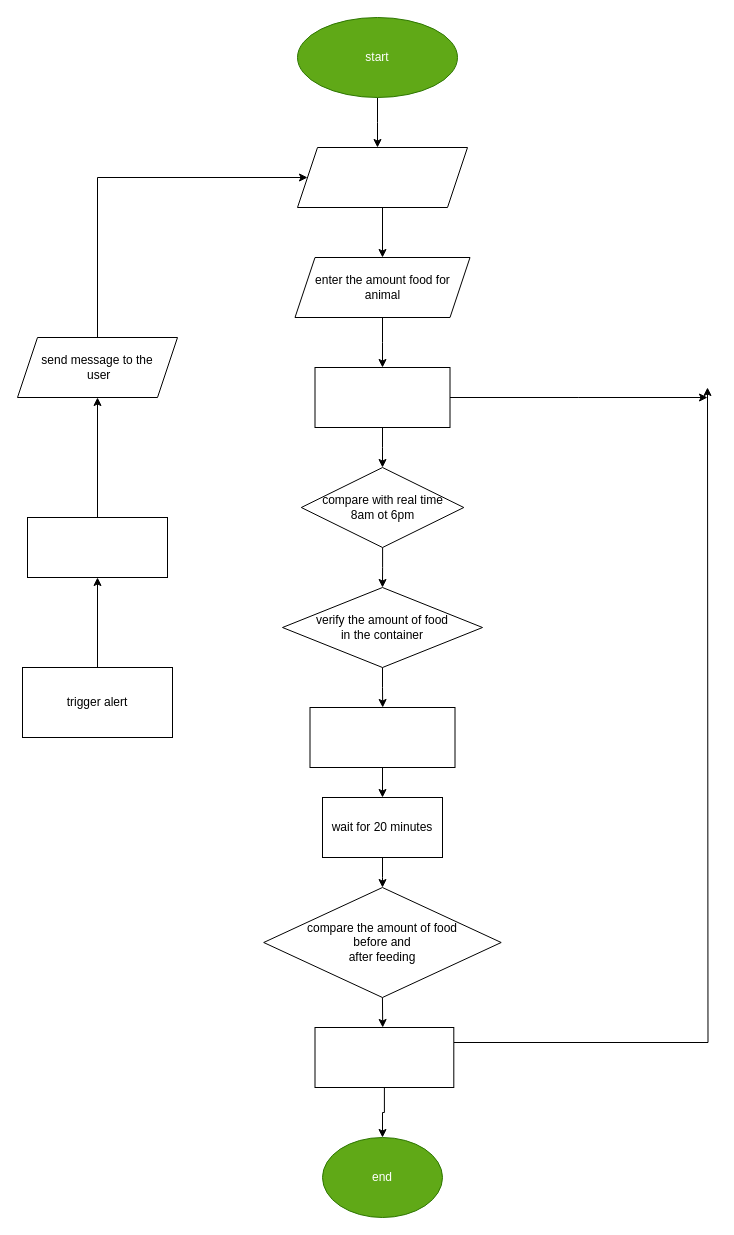
The diagram is 734 pixels wide and 1235 high, and some of its shapes have lost their labels. Each missing label, with the centre of its shape:
check time: (x=382, y=397)
count the amount of food left: (x=97, y=547)
enter feeding schedule time: (x=382, y=177)
rotate servo and let the food out: (x=382, y=737)
success: (x=384, y=1057)
